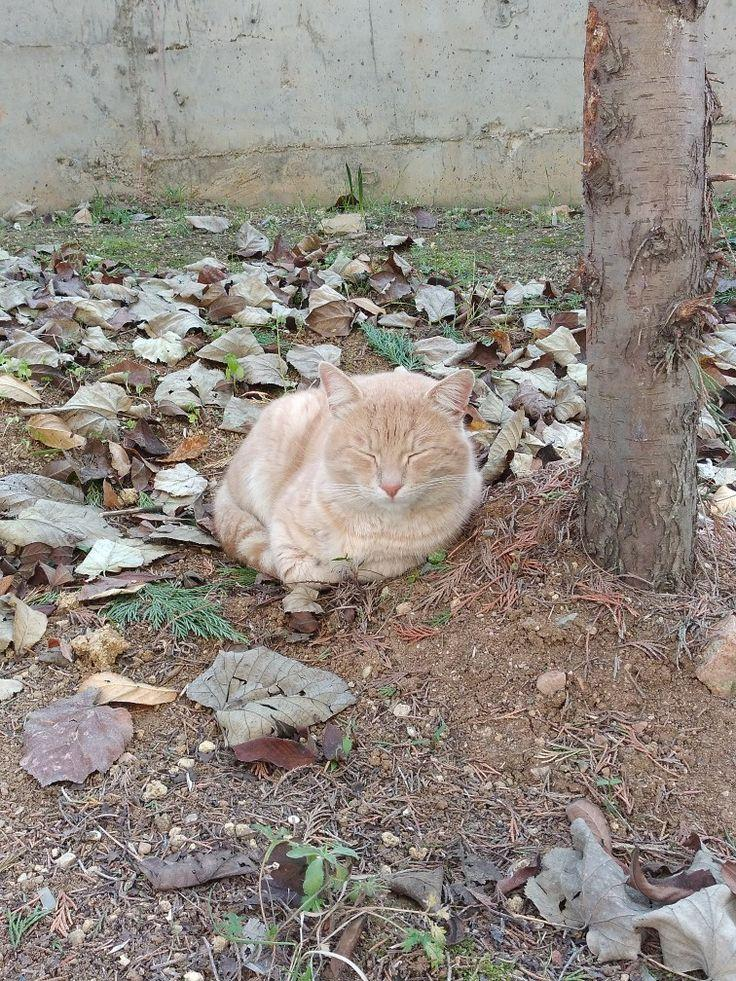kedo: (219, 360, 483, 588)
